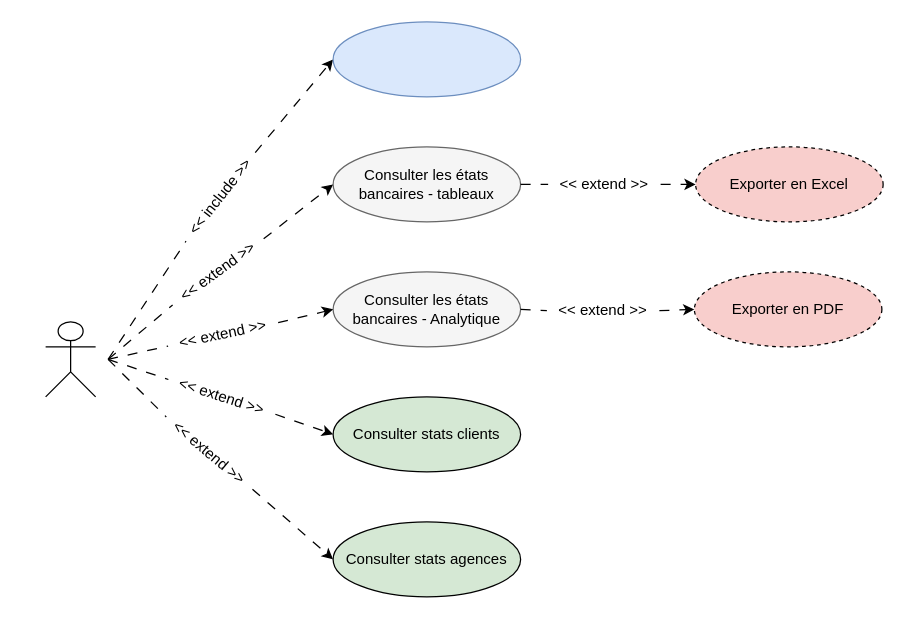
Image size: 905x619. Some labels were removed from this diagram. Each missing label, with the centre of its shape:
"Pôle Directoire" goes at pixel 70 359.
"S'authentifier" goes at pixel 426 59.
